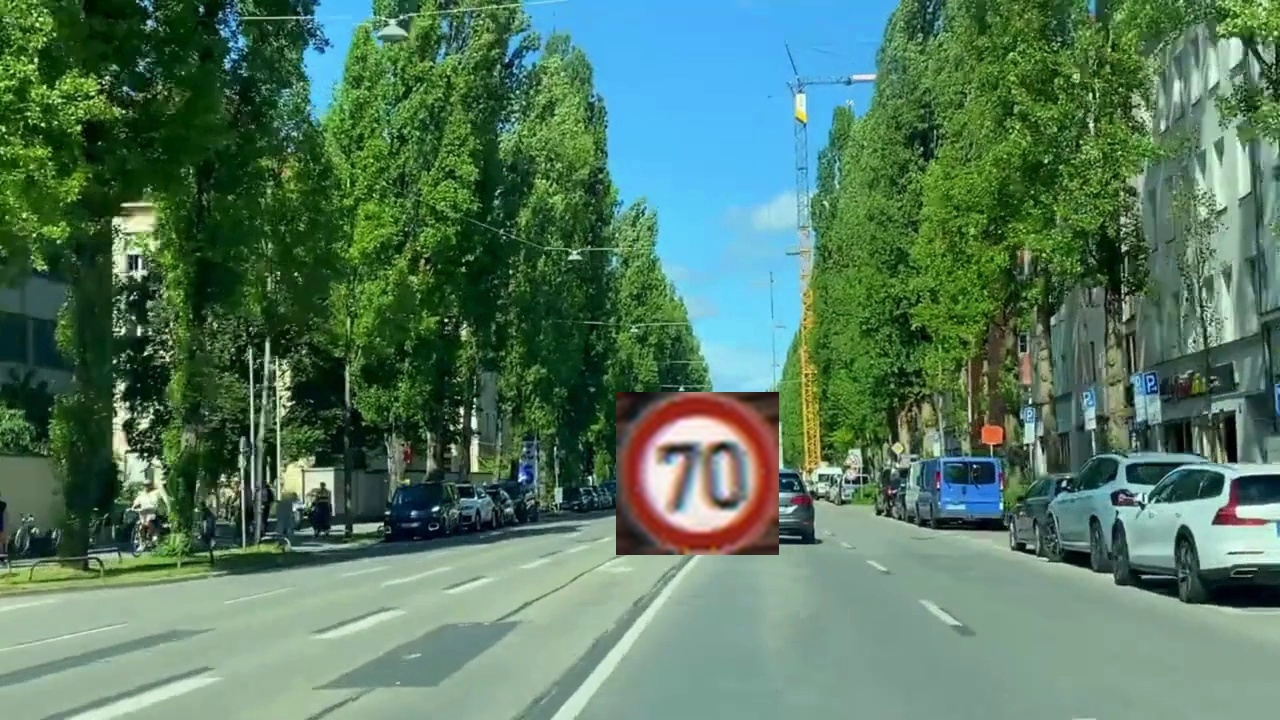Speed 70: (616, 392, 779, 555)
